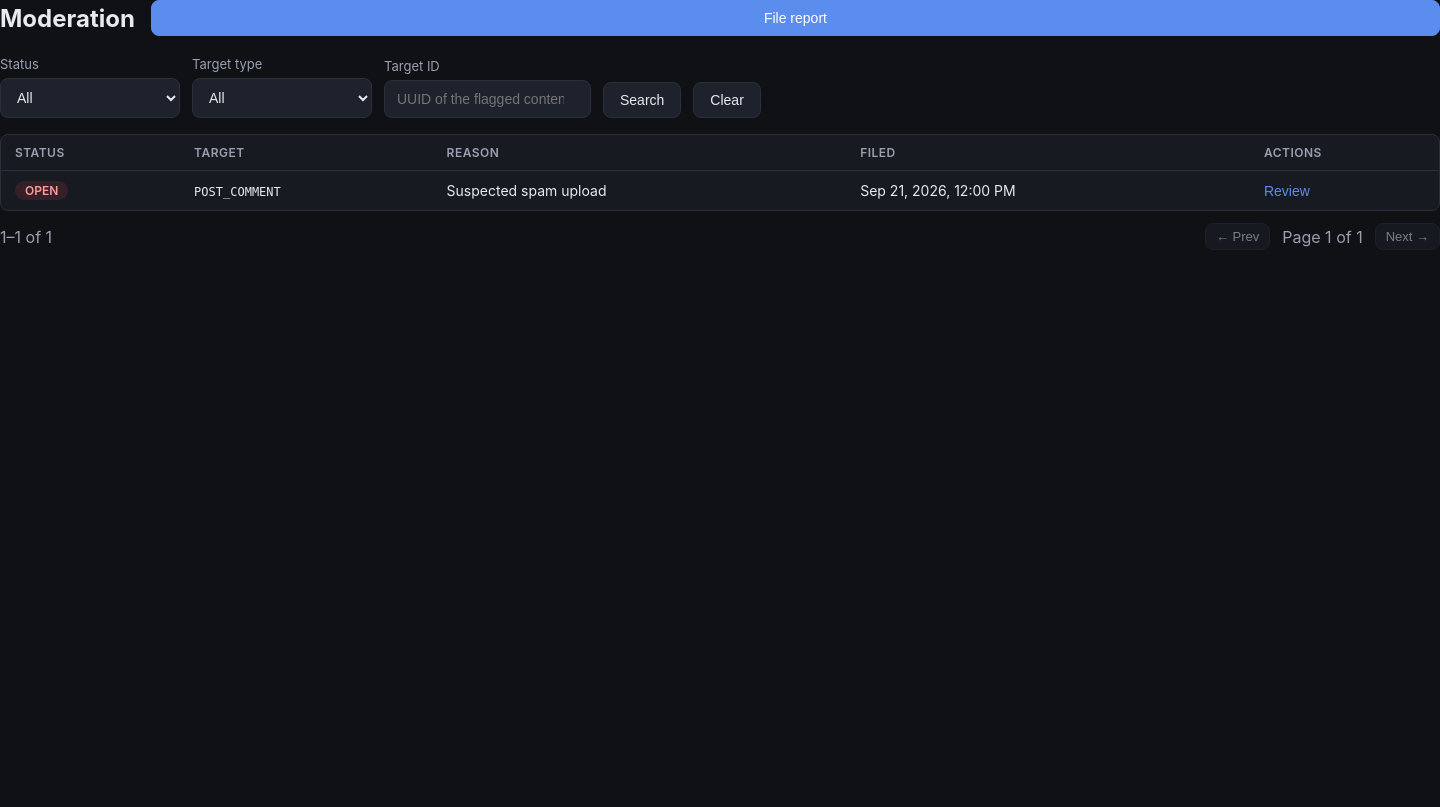
Test: community content moderation (Phase 29) › shows the reported comment with a Remove action
Step 1. Click the button with aria-label "Review report report-c1" → (1287,191), box [1264,183,1310,199]
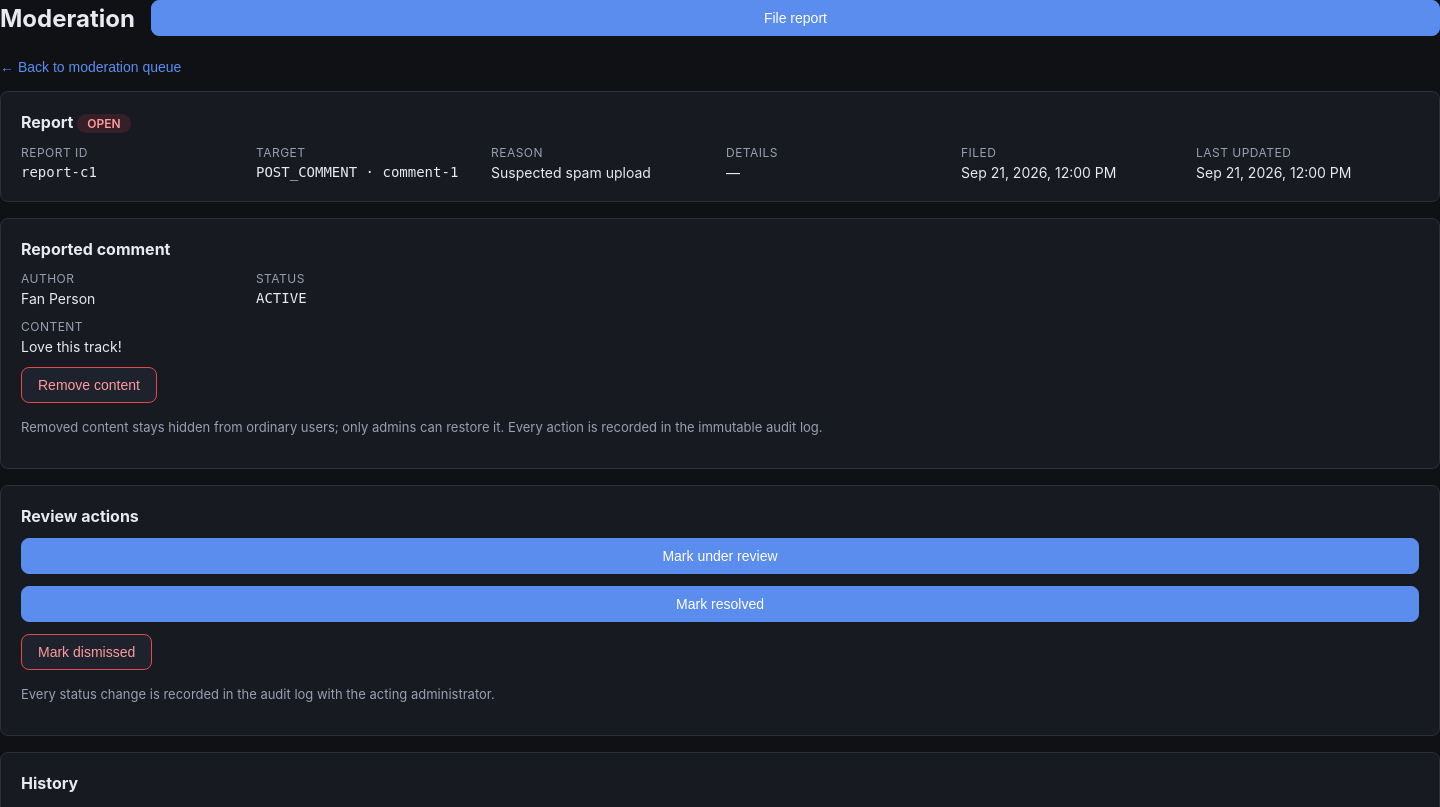
Now the heading "Reported comment" is shown, box [21,239,170,259]
Now the text "Love this track!" is shown, box [21,338,122,355]
Now the text "Fan Person" is shown, box [21,290,95,307]
